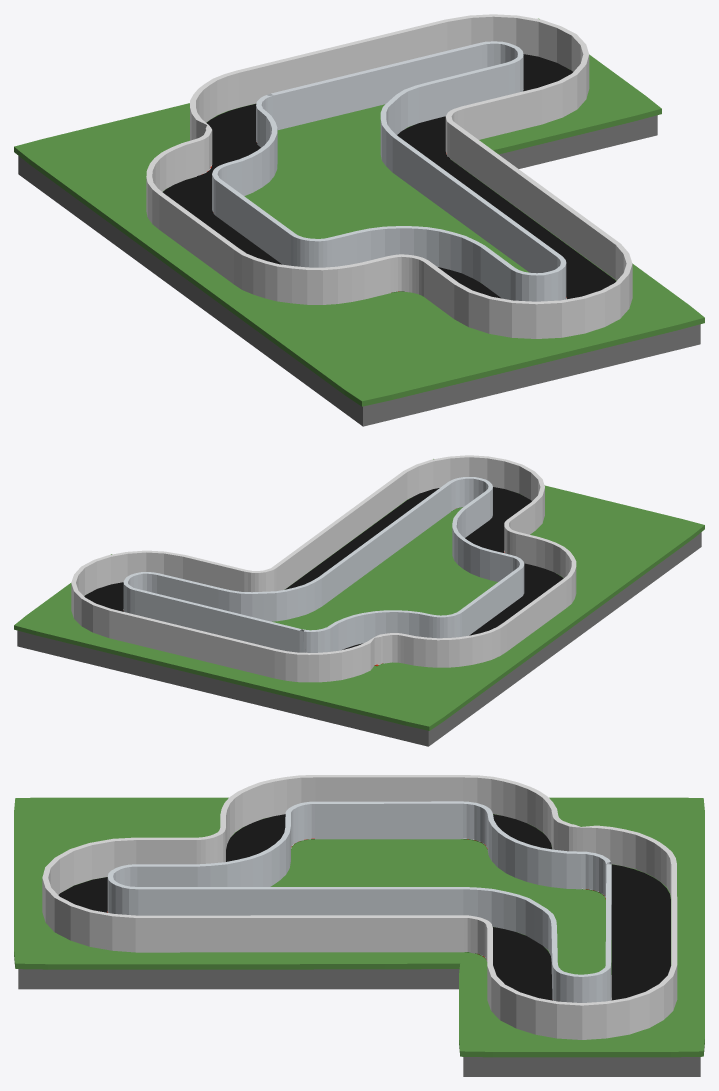
Rendered from RaceTracl.fbx.
3 views of the same model, one above another, from view 1: azimuth 30°, elevation 25°; view 2: azimuth 150°, elevation 25°; view 3: azimuth 270°, elevation 25° (orthographic). The views are drawn at different scales.
Visible parts, largest first — view 1: Plane, Plane.002, Plane.001; view 2: Plane, Plane.002, Plane.001; view 3: Plane, Plane.002, Plane.001.
Boxes of the visible parts, <box> form: Plane: <box>14,18,704,426</box>; Plane.002: <box>146,14,632,338</box>; Plane.001: <box>212,41,566,301</box>; Plane: <box>14,459,704,746</box>; Plane.002: <box>71,455,576,682</box>; Plane.001: <box>123,477,524,652</box>; Plane: <box>14,797,704,1076</box>; Plane.002: <box>42,775,677,1039</box>; Plane.001: <box>107,801,611,1002</box>.
Size of the model in its own units: 10148 by 1159 by 11648.
